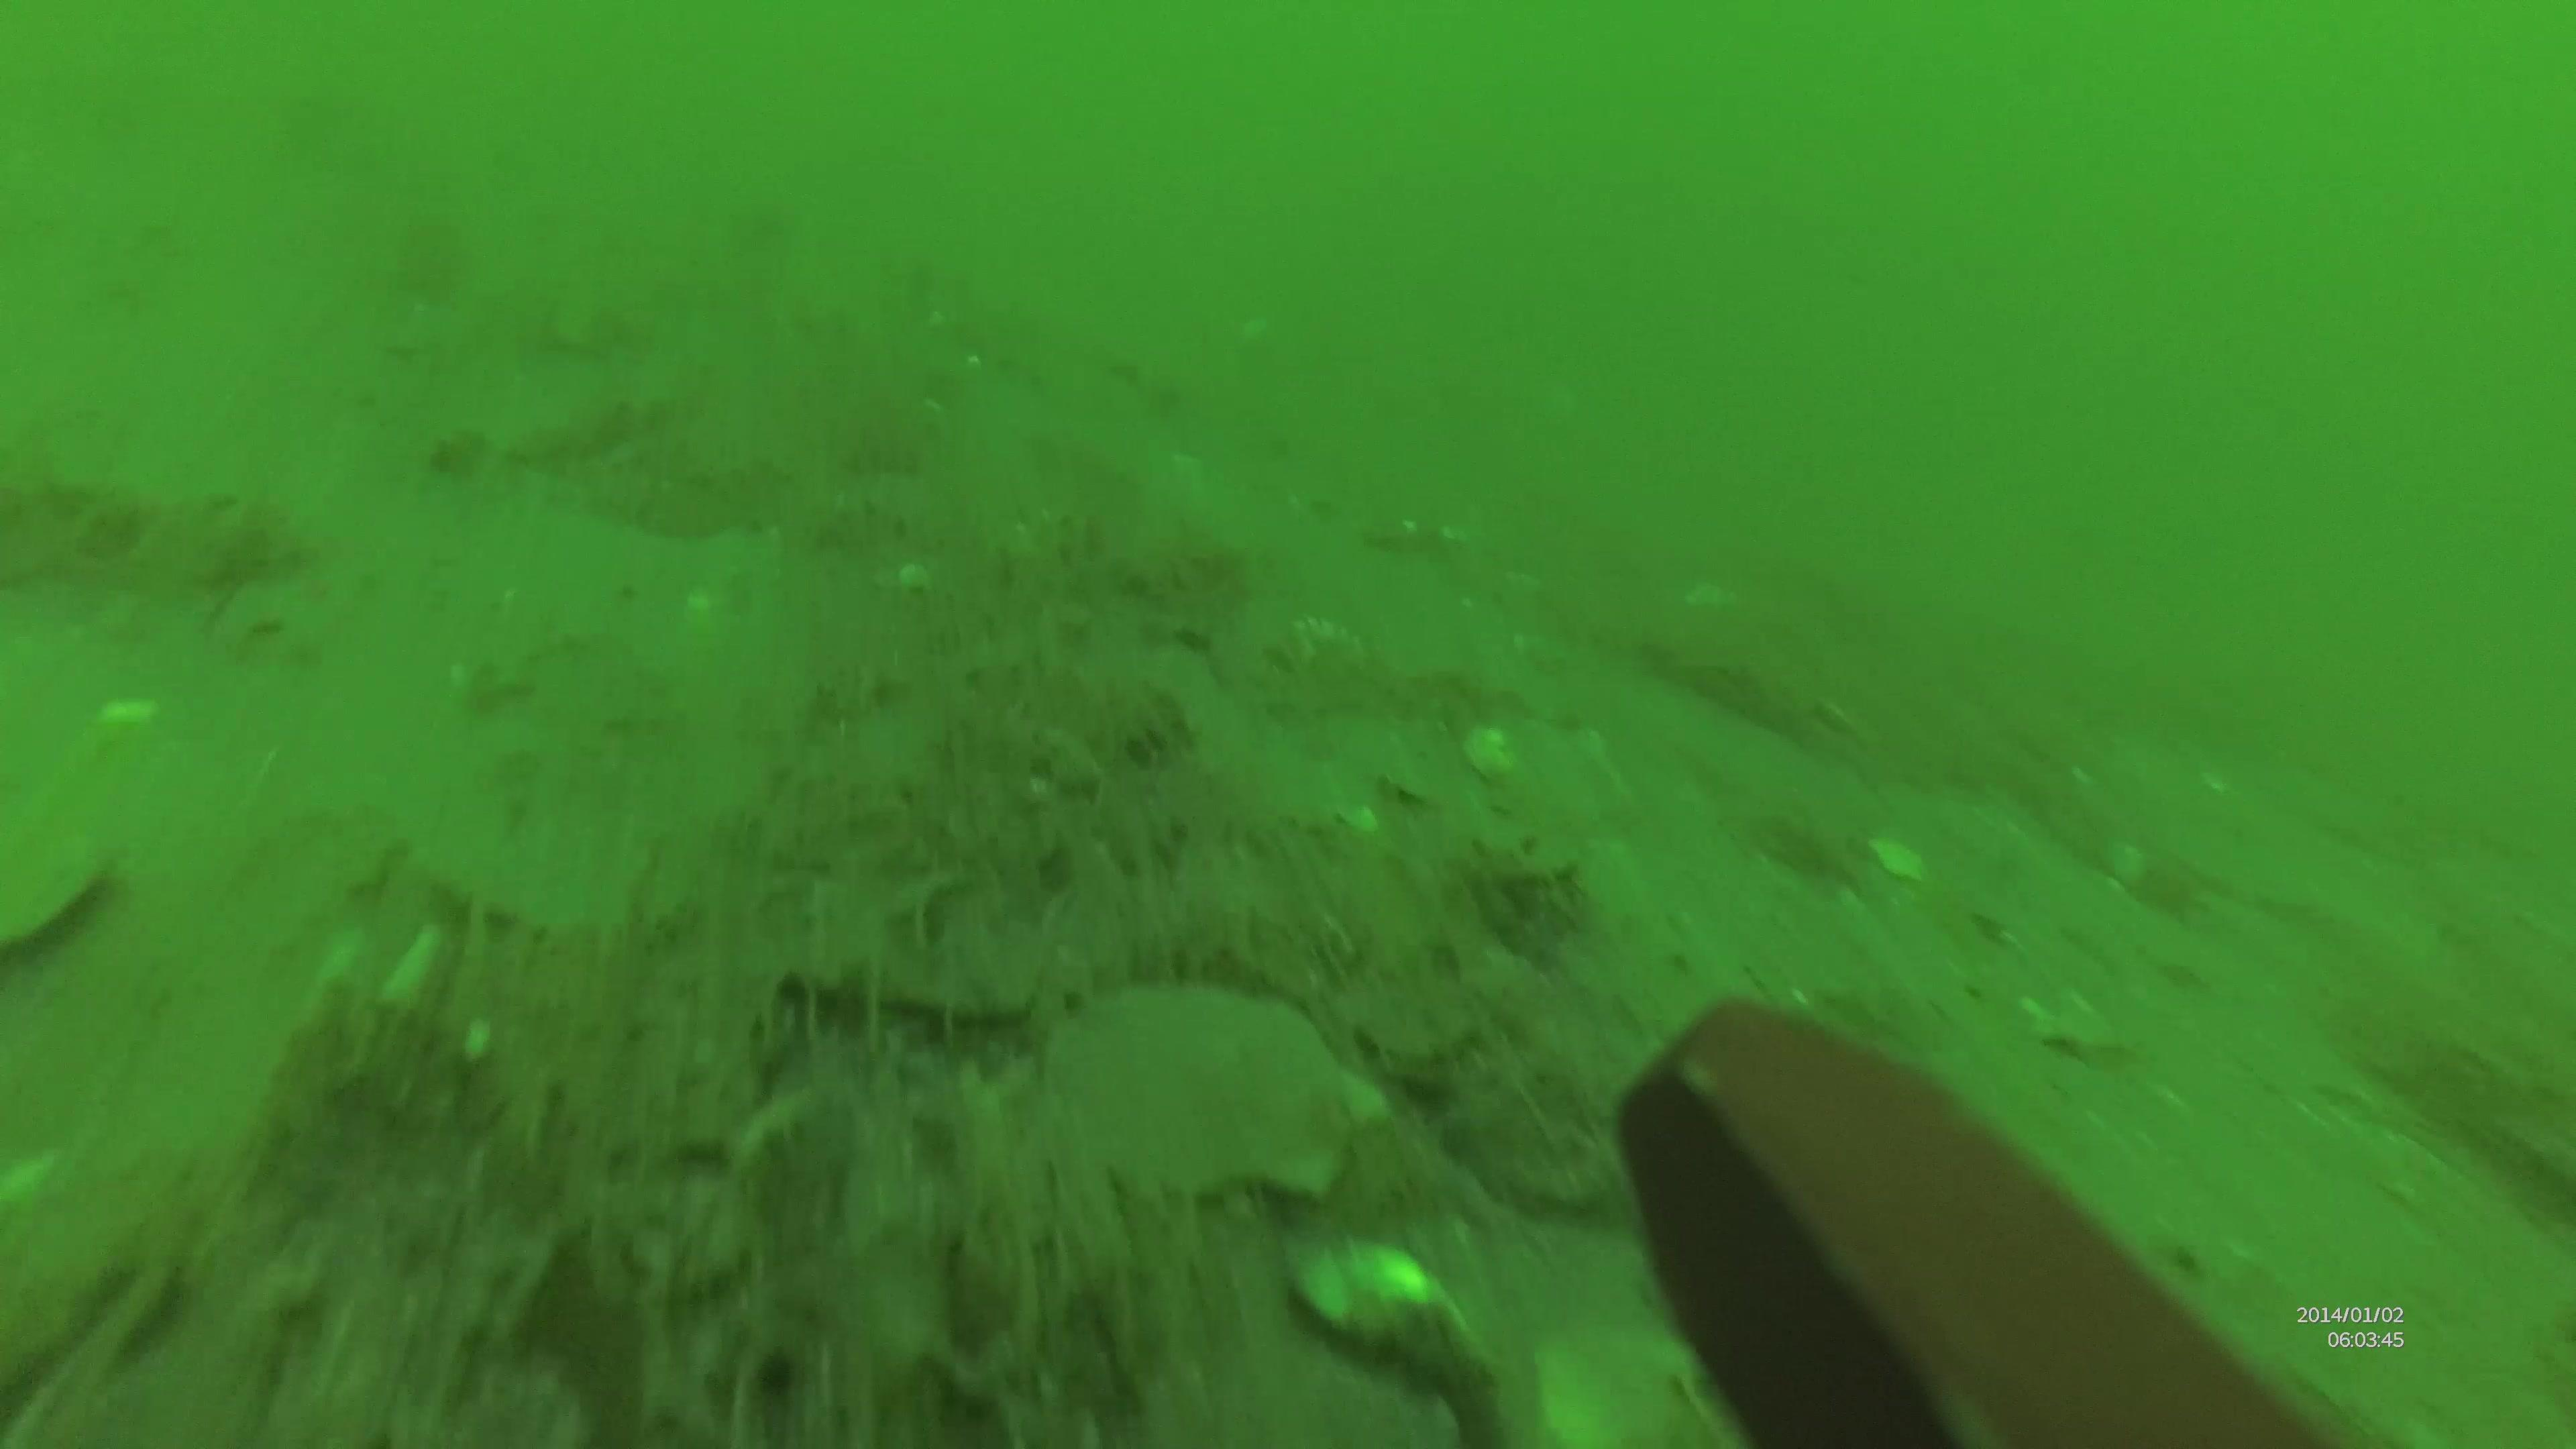scallop: (1046, 978, 1389, 1201), (1284, 1226, 1481, 1366), (0, 839, 134, 947)
